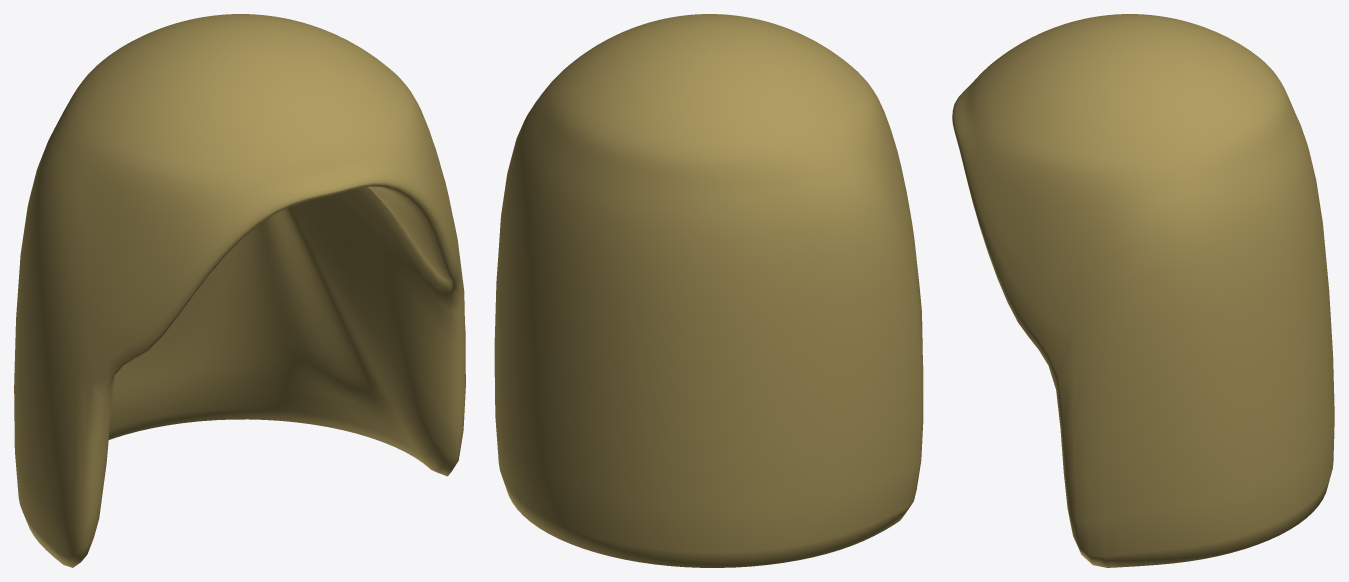
File: Female_Long_hair (DO NOT USE).fbx
3 views of the same model, side by side, from view 1: azimuth 30°, elevation 25°; view 2: azimuth 150°, elevation 25°; view 3: azimuth 270°, elevation 25° (orthographic). The views are drawn at different scales.
Parts seen in each view (by area): view 1: pasted__pasted__pasted__Head; view 2: pasted__pasted__pasted__Head; view 3: pasted__pasted__pasted__Head.
Part boxes in pixels (left/top/right/bottom): pasted__pasted__pasted__Head: left=14, top=14, right=465, bottom=567; pasted__pasted__pasted__Head: left=494, top=14, right=923, bottom=567; pasted__pasted__pasted__Head: left=952, top=14, right=1334, bottom=567.
Size of the model in its own units: 1.88 by 2.11 by 1.64.
